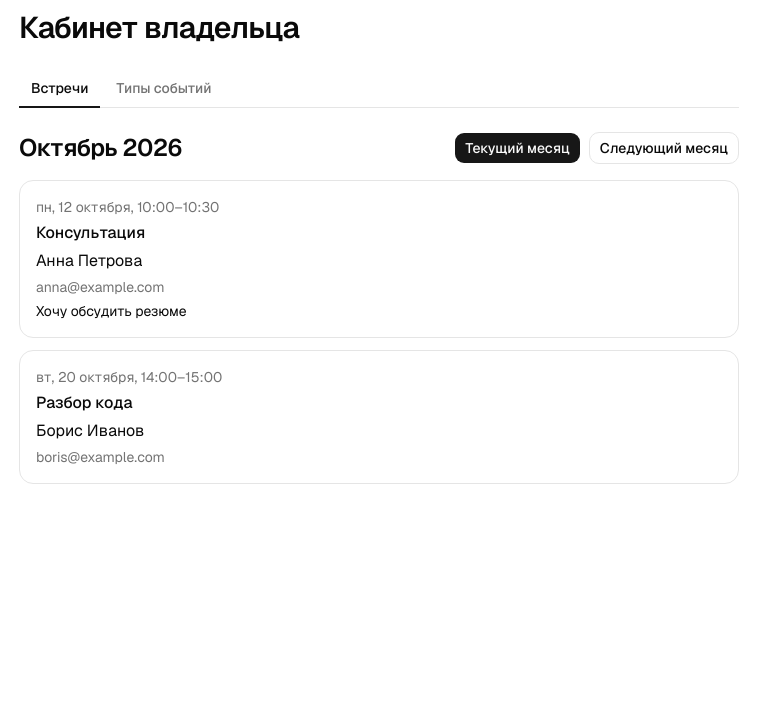
Test: вкладка «Типы событий» › создаёт тип и показывает его в списке
Click the tab "Типы событий".
click(164, 89)  # box [104,70,223,108]
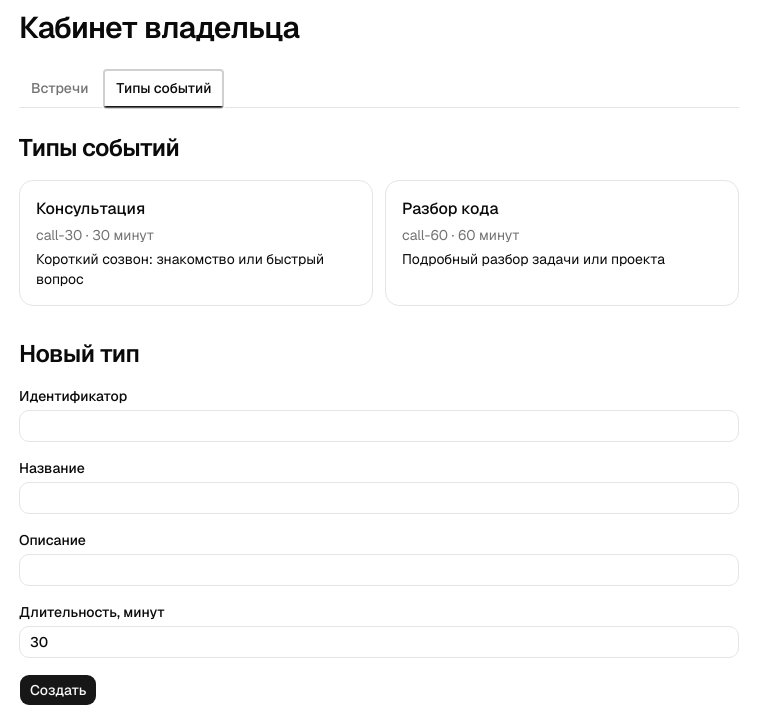
Check: the text "Консультация" is shown, box [36,198,145,219]
Type "call-15" into the field labelled "Идентификатор".
click(379, 426); type("call-15")  # box [19,410,739,442]
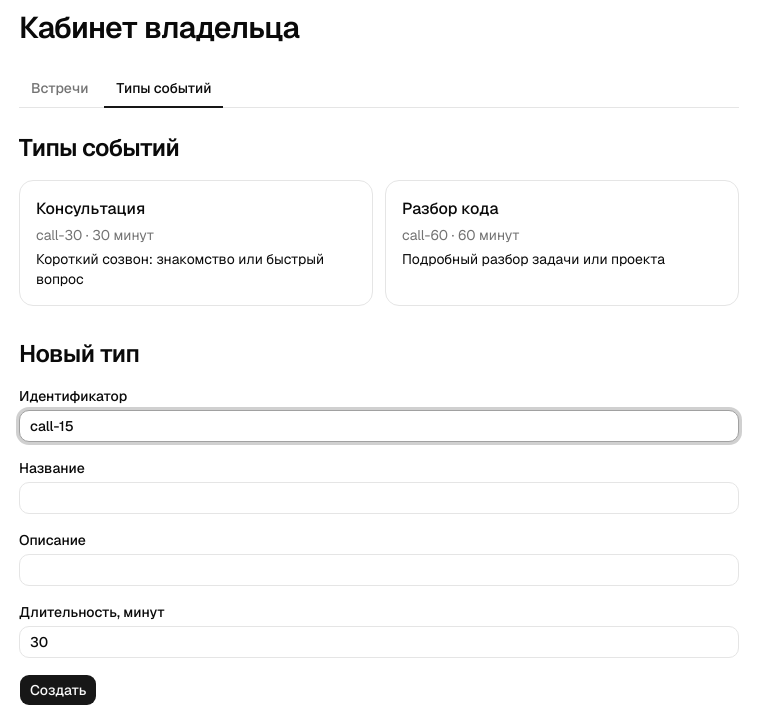
Type "Быстрый вопрос" into the field labelled "Название".
click(379, 498); type("Быстрый вопрос")  # box [19,482,739,514]
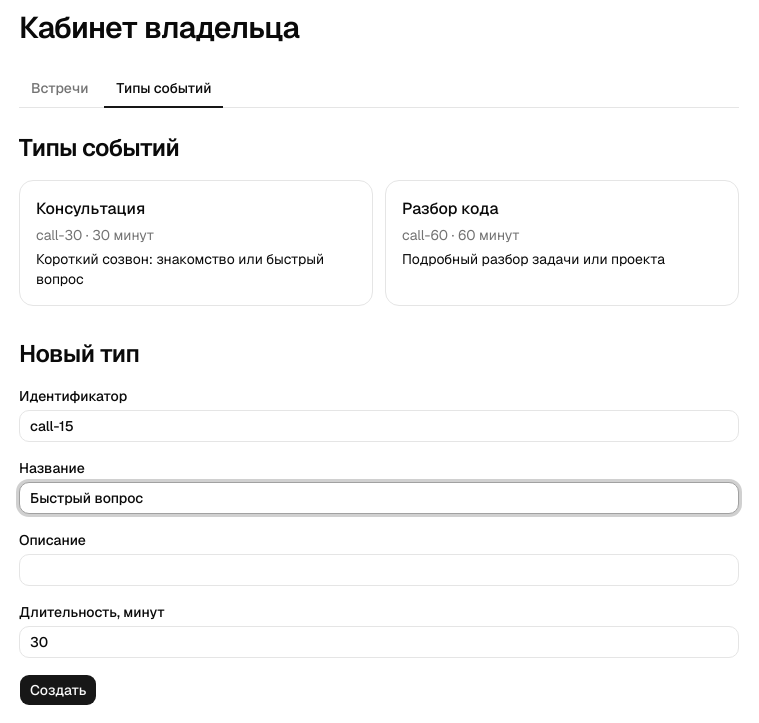
Type "Пятнадцать минут" into the field labelled "Описание".
click(379, 570); type("Пятнадцать минут")  # box [19,554,739,586]
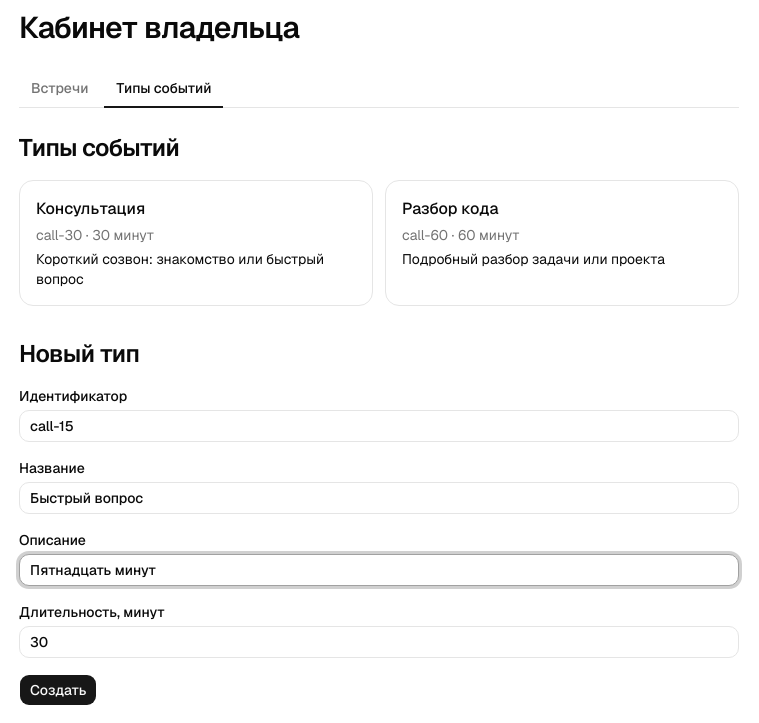
Replace the text in the number field labelled "Длительность, минут" with "15" at [379, 642], box [19,626,739,658]
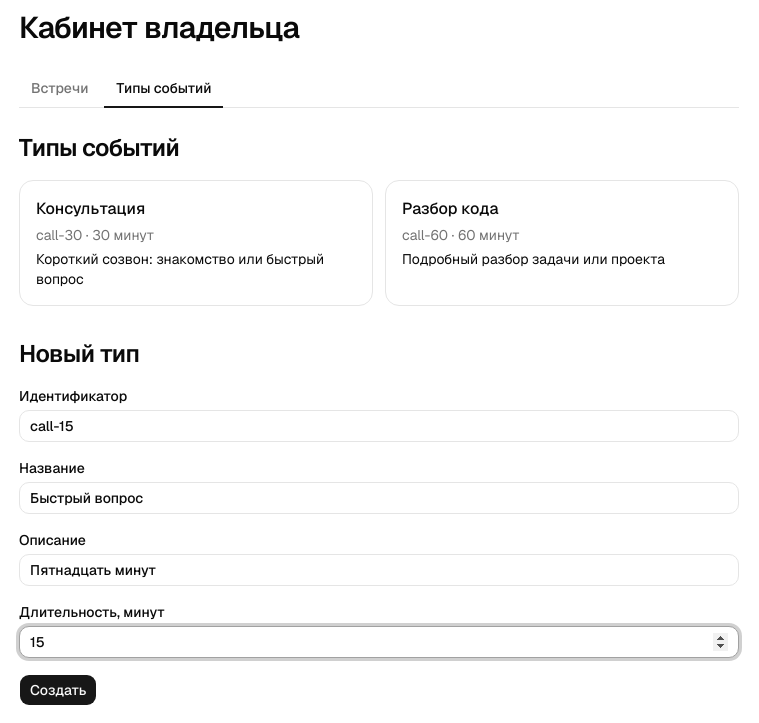
Click the button "Создать".
click(58, 690)  # box [19,674,97,706]
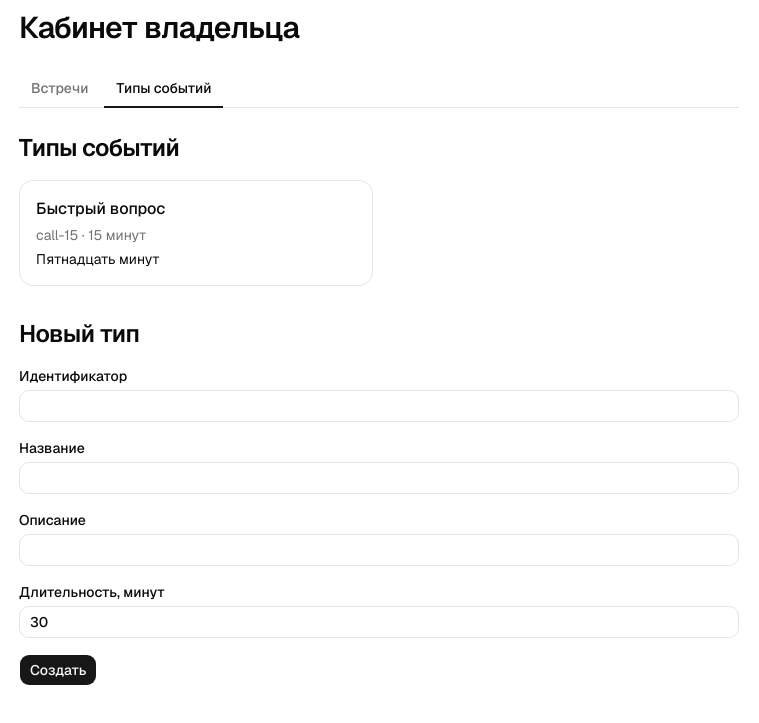
Check: the text "Быстрый вопрос" is shown, box [36,198,165,219]
Check: the field labelled "Идентификатор" is empty, box [19,390,739,422]
